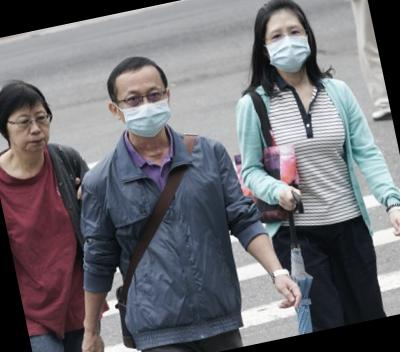with_mask: (115, 82, 178, 142), (261, 18, 315, 76)
without_mask: (5, 108, 56, 157)
